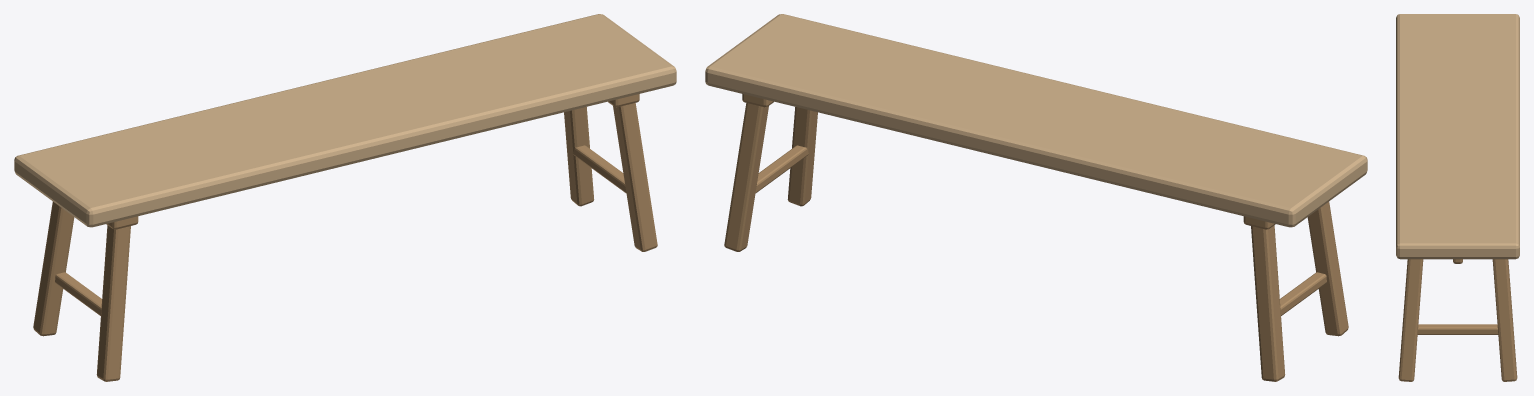
File: benchDining.glb
3 renders of one model, left to right at view 1: azimuth 30°, elevation 25°; view 2: azimuth 150°, elevation 25°; view 3: azimuth 270°, elevation 25°, orthographic. The views are drawn at different scales.
Visible parts, largest first — view 1: benchDining; view 2: benchDining; view 3: benchDining.
Part boxes in pixels (box(x1,y1,x2,y2)): benchDining: box(14, 14, 676, 381); benchDining: box(705, 14, 1367, 381); benchDining: box(1396, 14, 1519, 381).
Size of the model in its own units: 1.6 by 0.4678 by 0.36.
